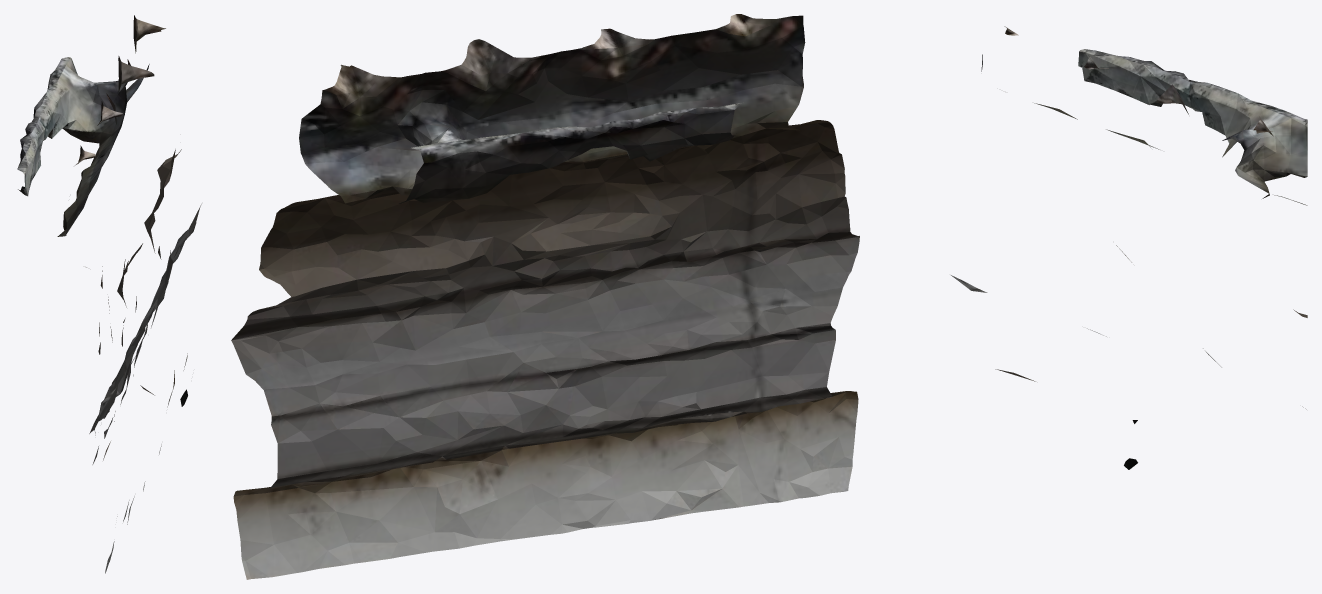
3 renders of one model, left to right at view 1: azimuth 30°, elevation 25°; view 2: azimuth 150°, elevation 25°; view 3: azimuth 270°, elevation 25°, orthographic. The views are drawn at different scales.
Bounding box in the file's own units: 0.6476 × 0.8374 × 0.7561.
Materials: 3 (3 with a texture image).
